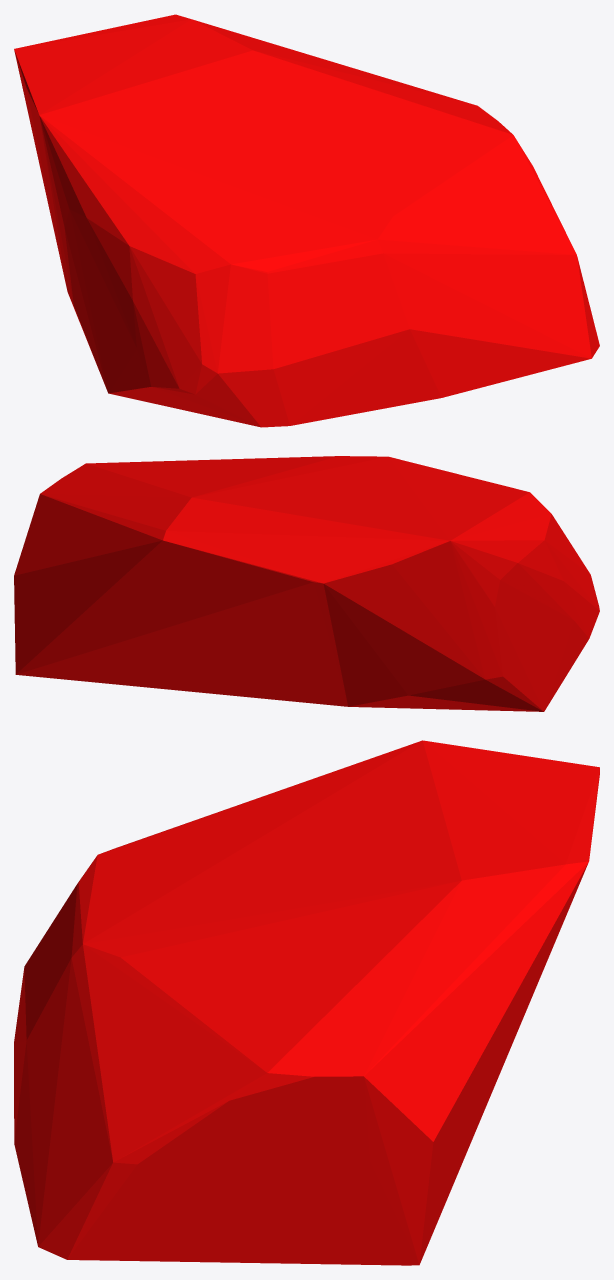
Rendered from tip_006_1_convex_hull_04.obj.
The picture shows the model from 3 angles, top to bottom: view 1: azimuth 30°, elevation 25°; view 2: azimuth 150°, elevation 25°; view 3: azimuth 270°, elevation 25°; orthographic projection. The views are drawn at different scales.
Parts seen in each view (by area): view 1: tip_006_1_convex_hull_04; view 2: tip_006_1_convex_hull_04; view 3: tip_006_1_convex_hull_04.
Boxes of the visible parts, x1=… form: tip_006_1_convex_hull_04: x1=14, y1=14, x2=599, y2=427; tip_006_1_convex_hull_04: x1=14, y1=456, x2=599, y2=711; tip_006_1_convex_hull_04: x1=14, y1=740, x2=599, y2=1265.
Bounding box in the file's own units: 0.00269 × 0.0014 × 0.00265.
